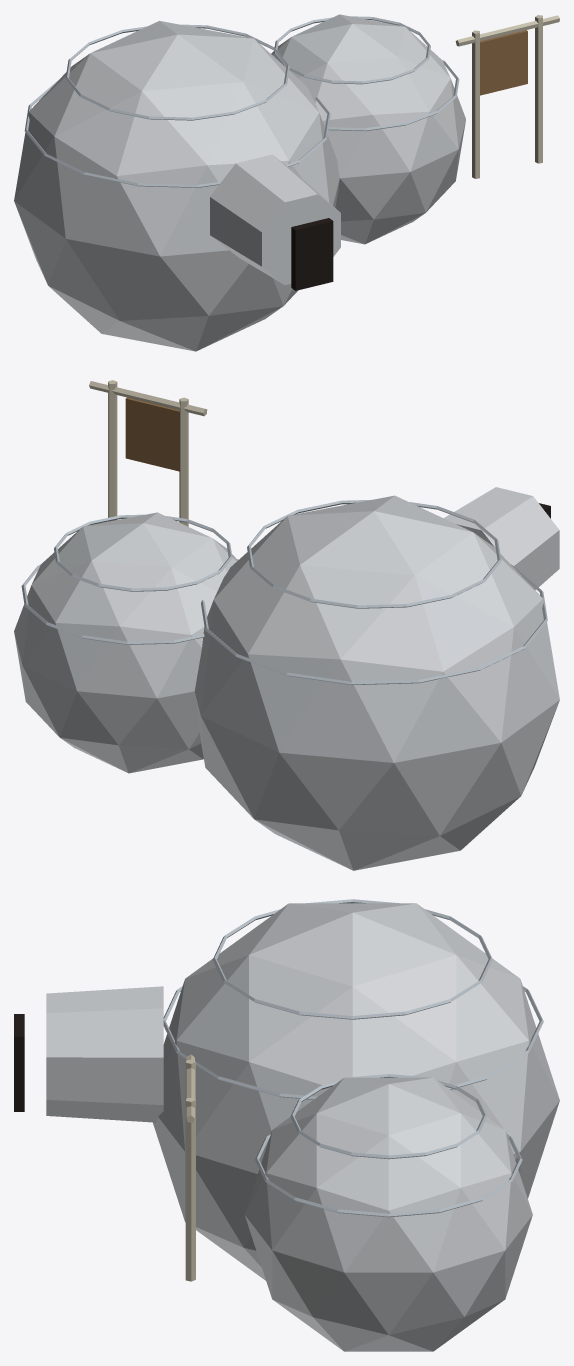
File: owl_house_b_broken.glb
3 views of the same model, one above another, from view 1: azimuth 30°, elevation 25°; view 2: azimuth 150°, elevation 25°; view 3: azimuth 270°, elevation 25° (orthographic). The views are drawn at different scales.
Parts seen in each view (by area): view 1: owl_house_b_piece4, owl_house_b_piece3, owl_house_b_piece10, owl_house_b_piece0, owl_house_b_piece1, owl_house_b_piece12, owl_house_b_piece9, owl_house_b_piece8, owl_house_b_piece5, owl_house_b_piece11, owl_house_b_piece2, owl_house_b_piece6 (+1 smaller); view 2: owl_house_b_piece5, owl_house_b_piece6, owl_house_b_piece4, owl_house_b_piece3, owl_house_b_piece8, owl_house_b_piece11, owl_house_b_piece2, owl_house_b_piece12, owl_house_b_piece10, owl_house_b_piece7, owl_house_b_piece1, owl_house_b_piece13 (+1 smaller); view 3: owl_house_b_piece5, owl_house_b_piece0, owl_house_b_piece8, owl_house_b_piece1, owl_house_b_piece9, owl_house_b_piece12, owl_house_b_piece13, owl_house_b_piece4, owl_house_b_piece6, owl_house_b_piece11, owl_house_b_piece2, owl_house_b_piece7.
Part boxes in pixels (x1,y1,x2,y2): owl_house_b_piece4: (27,30,260,292); owl_house_b_piece3: (14,152,265,351); owl_house_b_piece10: (91,168,282,291); owl_house_b_piece0: (260,44,472,321); owl_house_b_piece1: (174,62,415,207); owl_house_b_piece12: (237,154,340,290); owl_house_b_piece9: (189,87,334,274); owl_house_b_piece8: (124,21,358,81); owl_house_b_piece5: (271,14,430,73); owl_house_b_piece11: (455,15,559,178); owl_house_b_piece2: (254,195,343,324); owl_house_b_piece6: (19,62,77,166); owl_house_b_piece5: (20,512,276,760); owl_house_b_piece6: (236,609,496,851); owl_house_b_piece4: (307,517,558,693); owl_house_b_piece3: (274,670,559,870); owl_house_b_piece8: (195,500,433,649); owl_house_b_piece11: (89,380,207,526); owl_house_b_piece2: (28,683,238,802); owl_house_b_piece12: (444,487,554,537); owl_house_b_piece10: (490,524,559,633); owl_house_b_piece7: (114,514,238,777); owl_house_b_piece1: (166,495,442,782); owl_house_b_piece13: (14,587,122,770); owl_house_b_piece5: (316,1013,540,1271); owl_house_b_piece0: (196,1143,444,1351); owl_house_b_piece8: (279,908,521,1095); owl_house_b_piece1: (225,918,525,1196); owl_house_b_piece9: (77,936,254,1188); owl_house_b_piece12: (14,987,163,1117); owl_house_b_piece13: (349,1209,499,1351); owl_house_b_piece4: (163,899,492,1044); owl_house_b_piece6: (482,951,559,1198); owl_house_b_piece11: (185,1054,195,1281); owl_house_b_piece2: (161,1148,518,1303); owl_house_b_piece7: (295,1106,529,1185).
Bounding box in the file's own units: 3.59 × 2.3 × 3.03.
